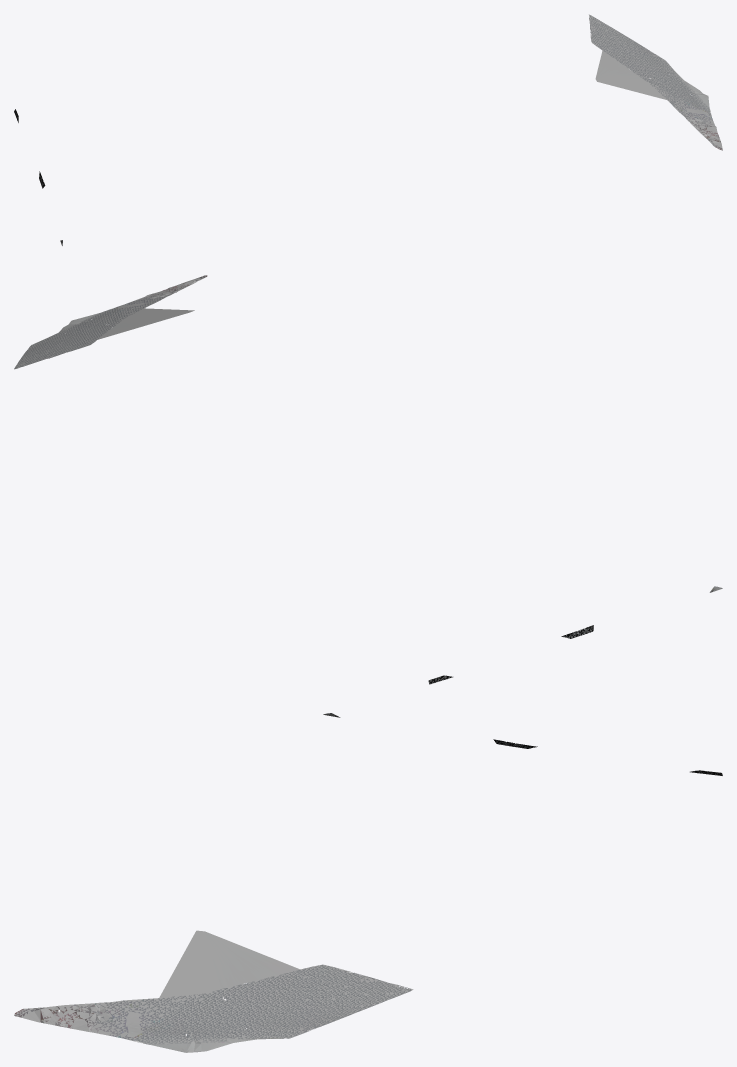
The model's file is sugarfine_3Dgs7000_densityestim02_sdfnorm02_level03_decim200000_normalconsistency01_gaussperface6.glb.
The picture shows the model from 3 angles, top to bottom: view 1: azimuth 30°, elevation 25°; view 2: azimuth 150°, elevation 25°; view 3: azimuth 270°, elevation 25°; orthographic projection. The views are drawn at different scales.
Parts seen in each view (by area): view 1: sugarfine_3Dgs7000_densityestim02_sdfnorm02_level03_decim200; view 2: sugarfine_3Dgs7000_densityestim02_sdfnorm02_level03_decim200; view 3: sugarfine_3Dgs7000_densityestim02_sdfnorm02_level03_decim200.
Boxes of the visible parts, left/top/right/bottom form: sugarfine_3Dgs7000_densityestim02_sdfnorm02_level03_decim200: left=14, top=14, right=722, bottom=245; sugarfine_3Dgs7000_densityestim02_sdfnorm02_level03_decim200: left=14, top=275, right=722, bottom=684; sugarfine_3Dgs7000_densityestim02_sdfnorm02_level03_decim200: left=14, top=713, right=722, bottom=1052.
Size of the model in its own units: 3.24 by 0.4152 by 2.46.
Materials: 1 (1 with a texture image).
